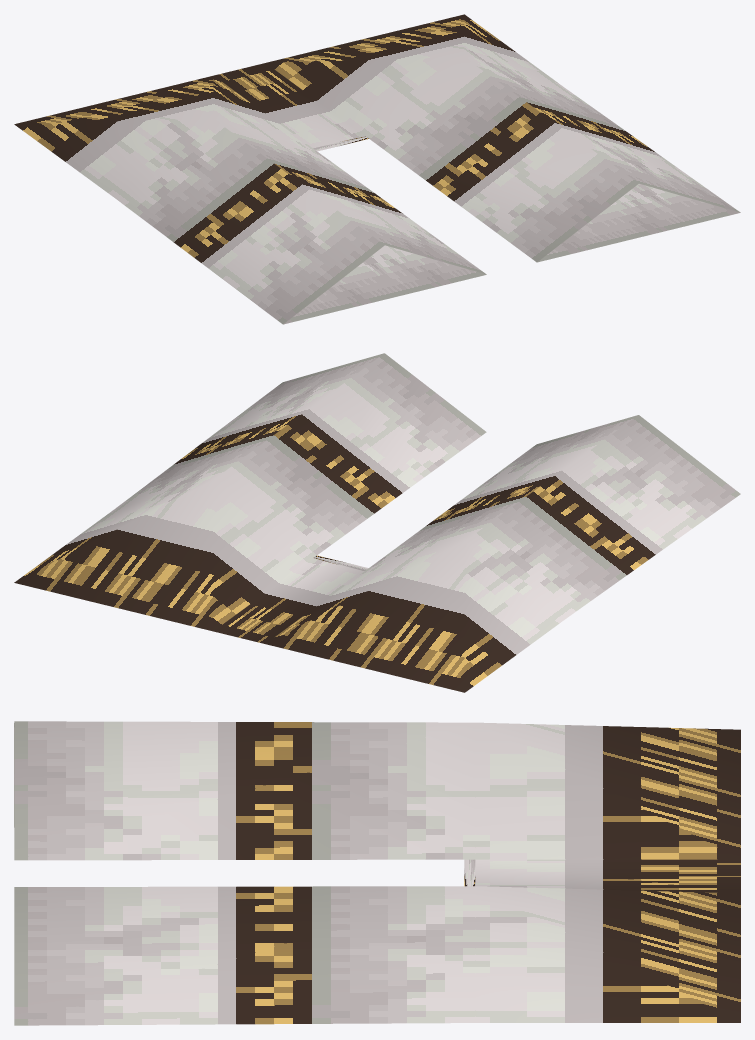
Rendered from 2133pants000_c.gltf.
3 views of the same model, one above another, from view 1: azimuth 30°, elevation 25°; view 2: azimuth 150°, elevation 25°; view 3: azimuth 270°, elevation 25° (orthographic). The views are drawn at different scales.
Parts seen in each view (by area): view 1: 2133pants000_c; view 2: 2133pants000_c; view 3: 2133pants000_c.
Part boxes in pixels (left/top/right/bottom): 2133pants000_c: left=14, top=14, right=740, bottom=324; 2133pants000_c: left=14, top=353, right=740, bottom=692; 2133pants000_c: left=14, top=721, right=740, bottom=1025.
Bounding box in the file's own units: 0.7793 × 0.0884 × 0.803.
Materials: 1 (1 with a texture image).
